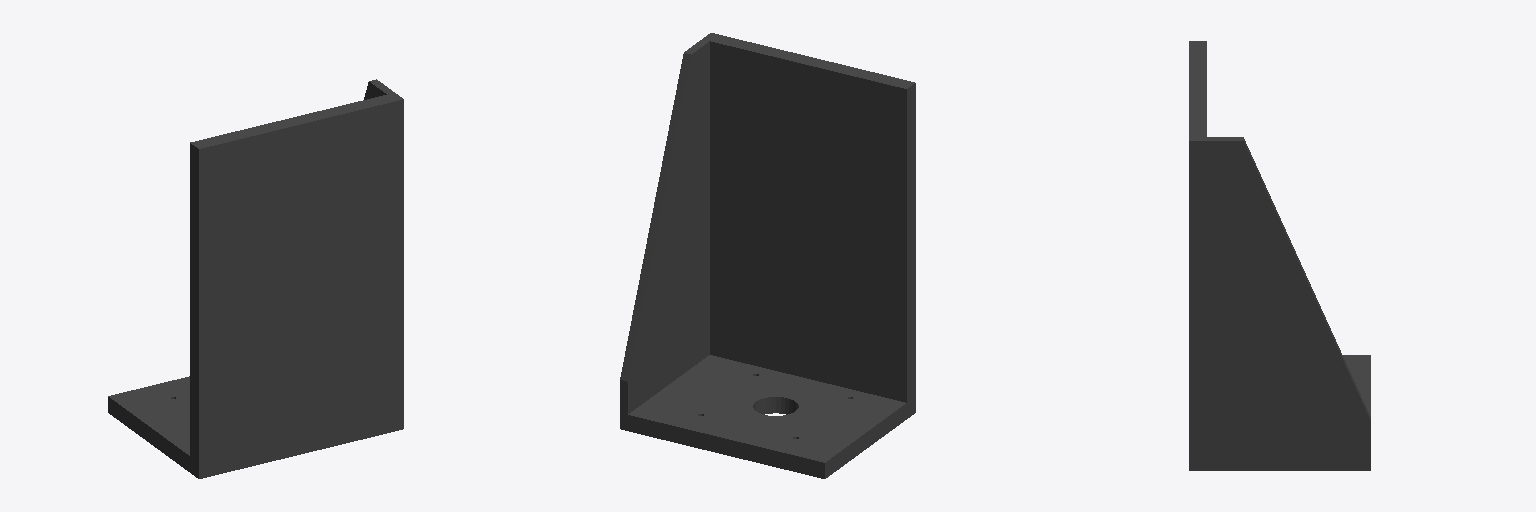
Rendered from mount_ur_cad.obj.
The picture shows the model from 3 angles: view 1: azimuth 30°, elevation 25°; view 2: azimuth 150°, elevation 25°; view 3: azimuth 270°, elevation 25°; orthographic projection.
Parts seen in each view (by area): view 1: 0611a90000.863; view 2: 0611a90000.863; view 3: 0611a90000.863.
Part boxes in pixels (x1,y1,x2,y2): 0611a90000.863: (108, 79, 403, 478); 0611a90000.863: (620, 33, 915, 478); 0611a90000.863: (1189, 41, 1370, 470).
Size of the model in its own units: 0.26 by 0.4 by 0.2.